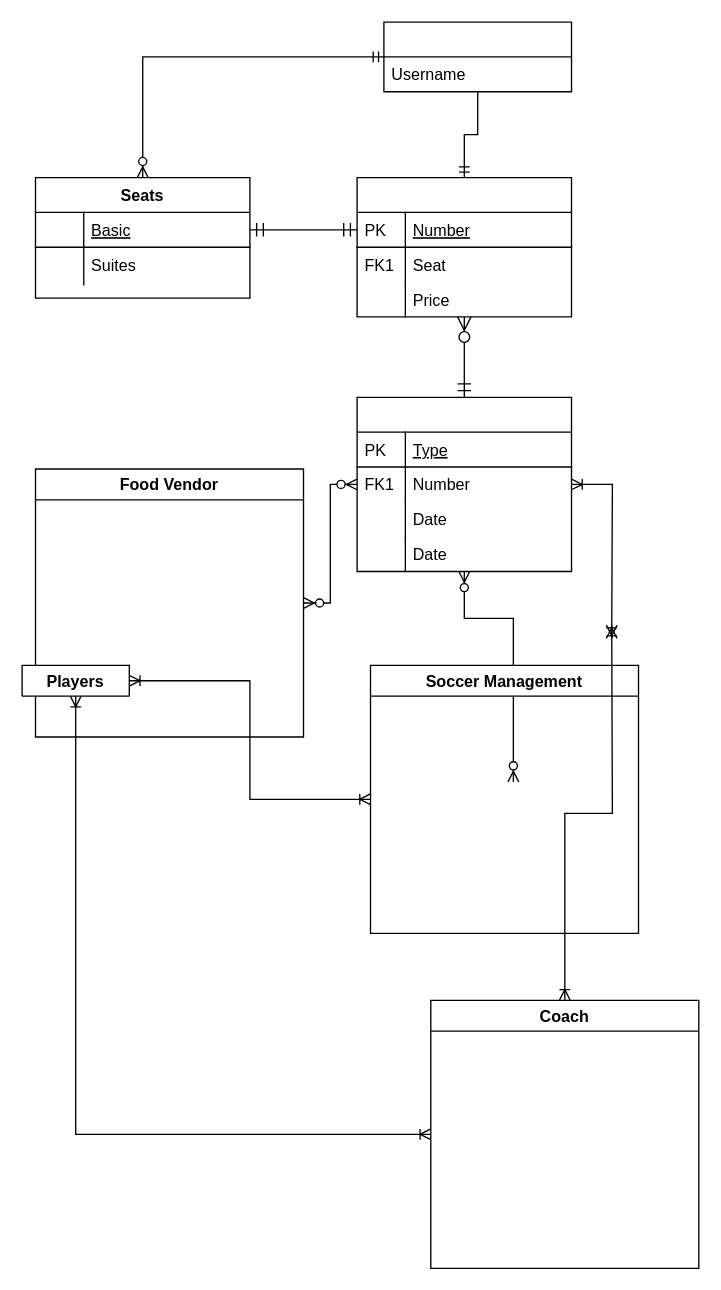
The diagram is 721 pixels wide and 1290 high, and some of its shapes have lost their labels. The shapes that lost their labels are listed below. From the top down, each one's box as (x1, y1, x2, y2) in pixels, then its label:
(383, 21, 572, 92): Customer
(356, 176, 572, 317): Ticket
(356, 396, 572, 572): Employee
